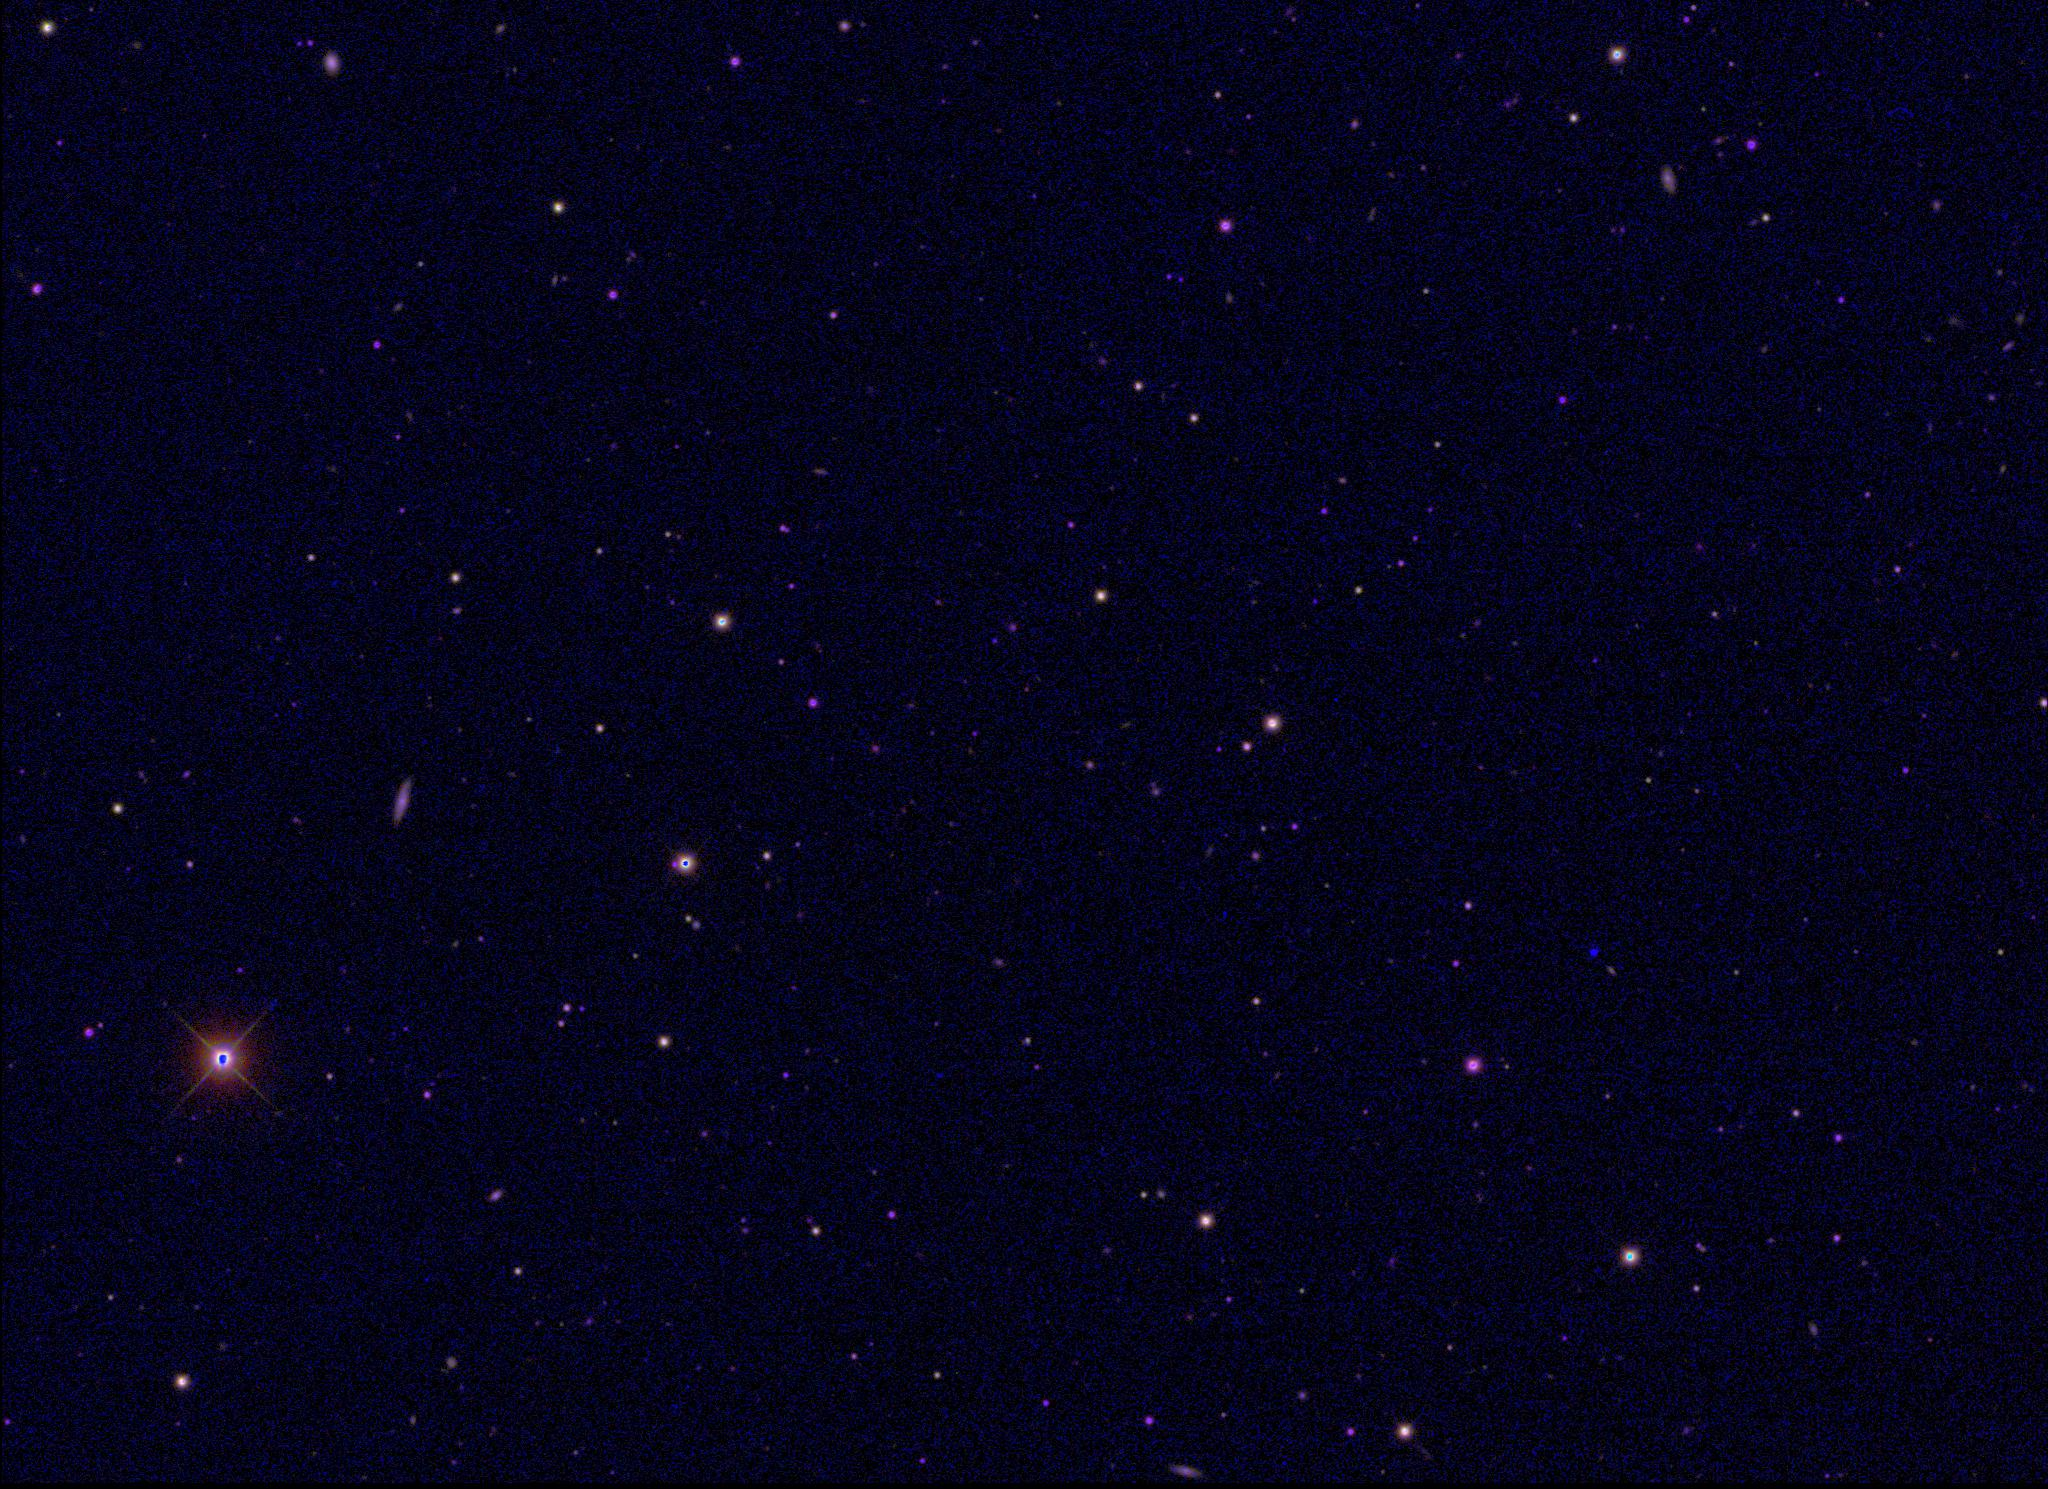L: (1587, 945, 1601, 959)
